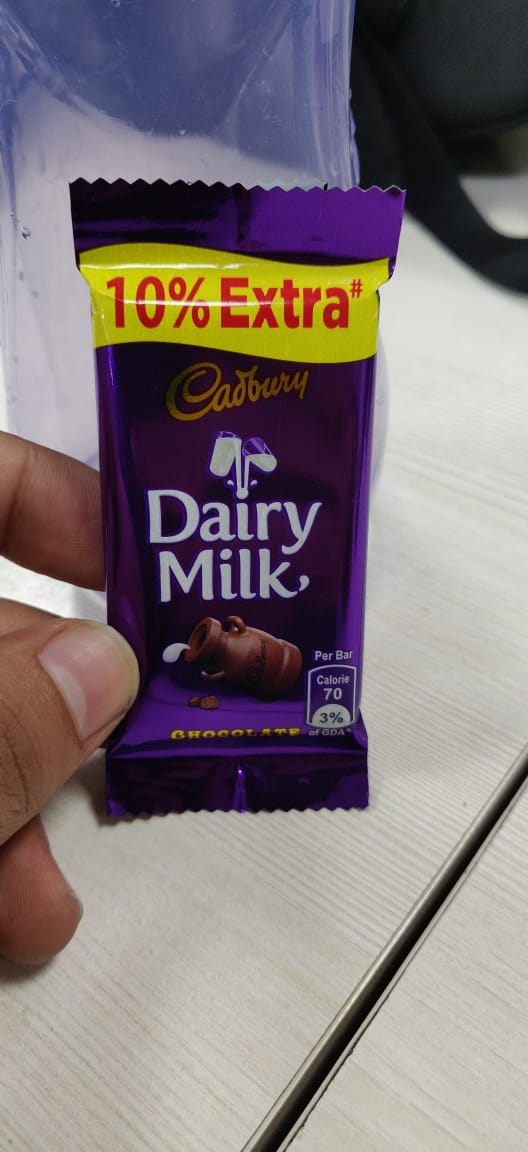dairy milk: (61, 170, 417, 841)
